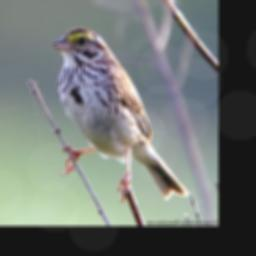Sparrow: (51, 26, 190, 204)
